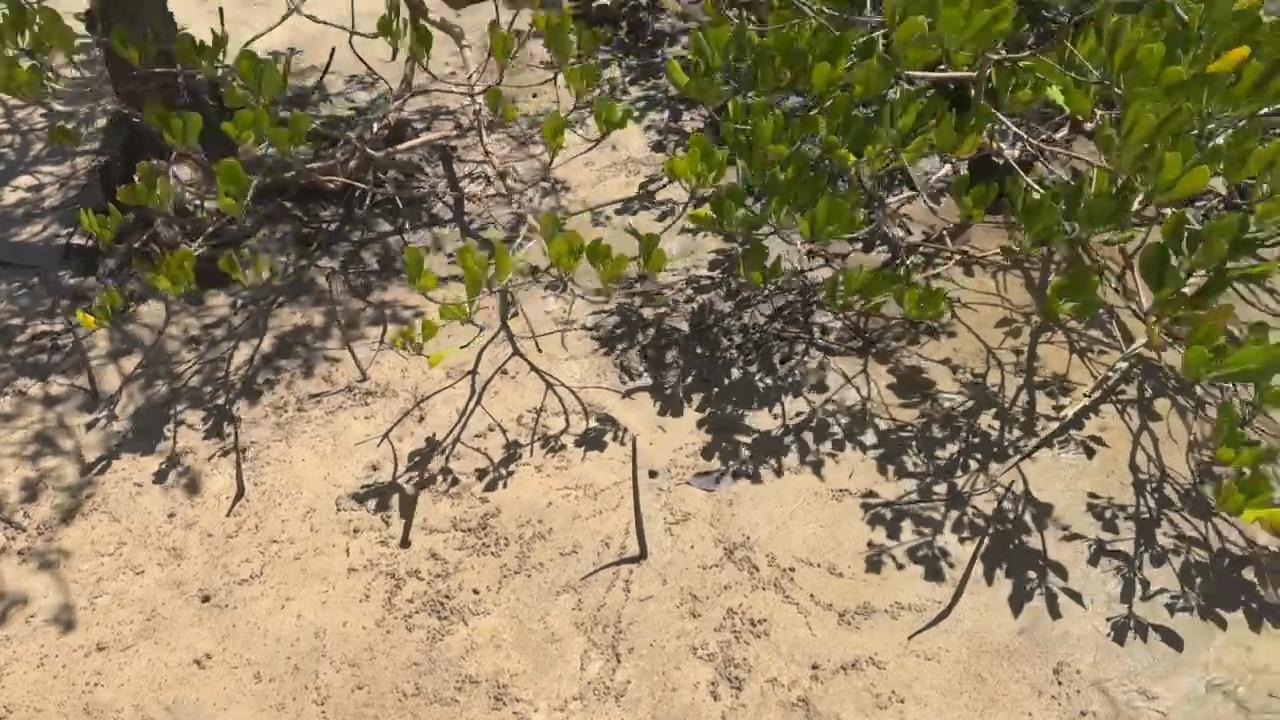Tree: (945, 479, 1016, 611), (60, 303, 103, 405), (333, 296, 371, 381), (629, 433, 648, 560), (399, 454, 421, 547), (232, 420, 245, 497)
